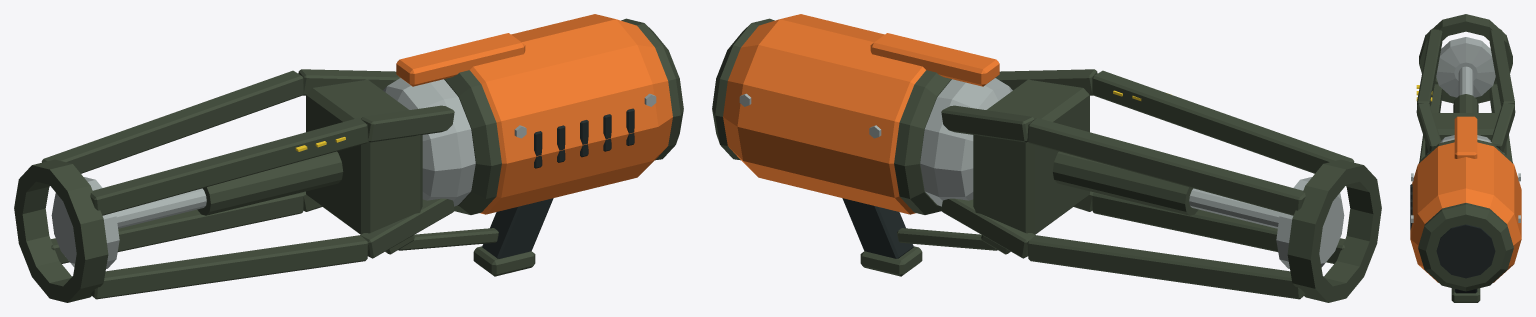
Rendered from impact-hammer.glb.
3 views of the same model, side by side, from view 1: azimuth 30°, elevation 25°; view 2: azimuth 150°, elevation 25°; view 3: azimuth 270°, elevation 25° (orthographic). The views are drawn at different scales.
Parts seen in each view (by area): view 1: IH01_BODY, IH01_PISTON; view 2: IH01_BODY, IH01_PISTON; view 3: IH01_BODY, IH01_PISTON.
Part boxes in pixels (x1,y1,x2,y2): IH01_BODY: (14,14,683,302); IH01_PISTON: (51,177,206,268); IH01_BODY: (712,14,1381,302); IH01_PISTON: (1189,177,1344,268); IH01_BODY: (1410,14,1521,302); IH01_PISTON: (1436,37,1495,97).
Bounding box in the file's own units: 1.18 × 0.4187 × 0.285.
